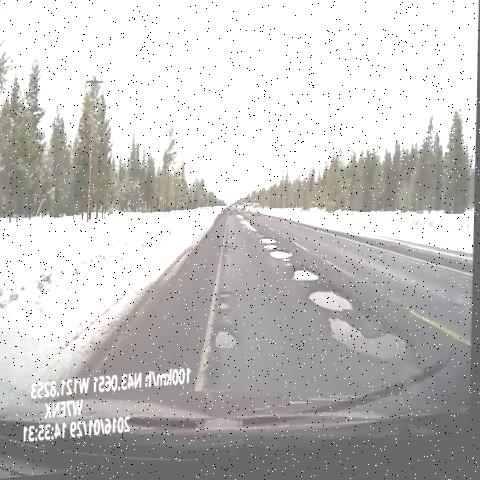pothole: (321, 314, 409, 381), (303, 283, 358, 327), (211, 320, 246, 367), (288, 263, 326, 294), (219, 290, 241, 322), (266, 252, 299, 270), (255, 239, 282, 258), (227, 227, 242, 251), (241, 220, 256, 233)
